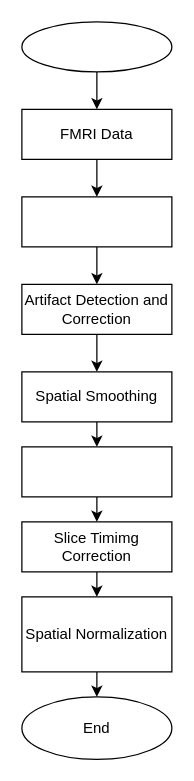
This 194x781 diagram has some shape labels left out. Here are the shapes that lost their labels. From the top down, the box of each, then its label:
(21, 21, 172, 72): Start
(21, 196, 172, 247): Motion Correction
(21, 446, 172, 497): Temporal Filtering
